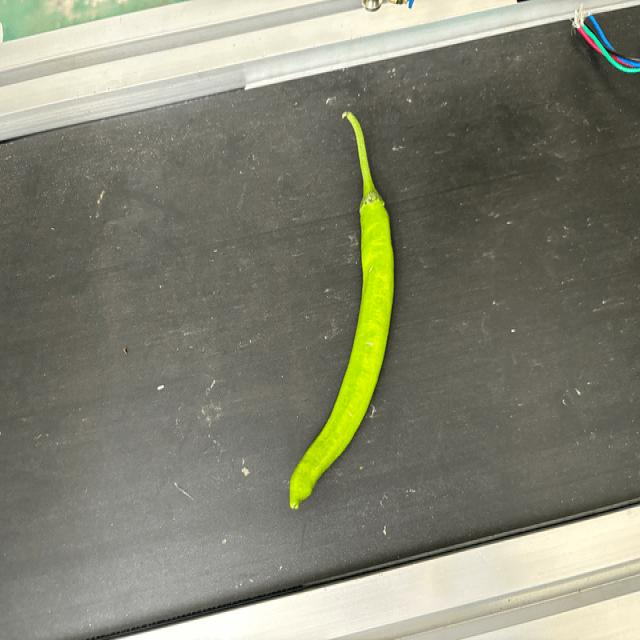chili: (287, 188, 398, 513)
